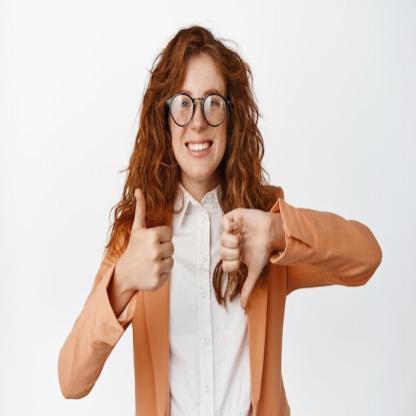thumb_down: (218, 204, 272, 312)
thumb_up: (120, 183, 176, 296)
